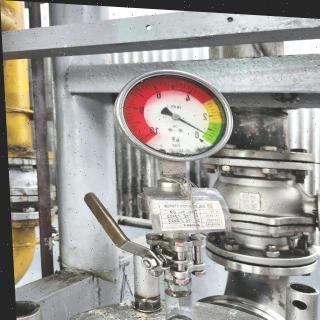gauge: (117, 68, 235, 162), (135, 126, 159, 146), (193, 130, 207, 149), (172, 113, 180, 120), (204, 131, 209, 137)
